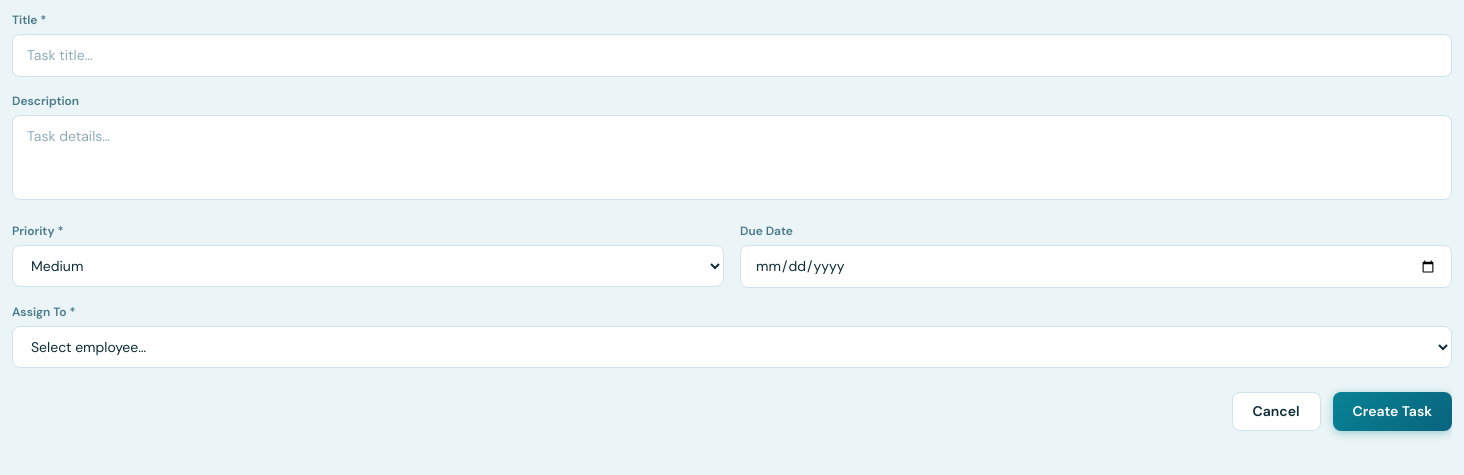
Test: TaskForm — create mode › shows employee required error when no employee selected
Type "My Task" into the field with placeholder "Task title…". click: (732, 56)
box: left=12, top=34, right=1452, bottom=77
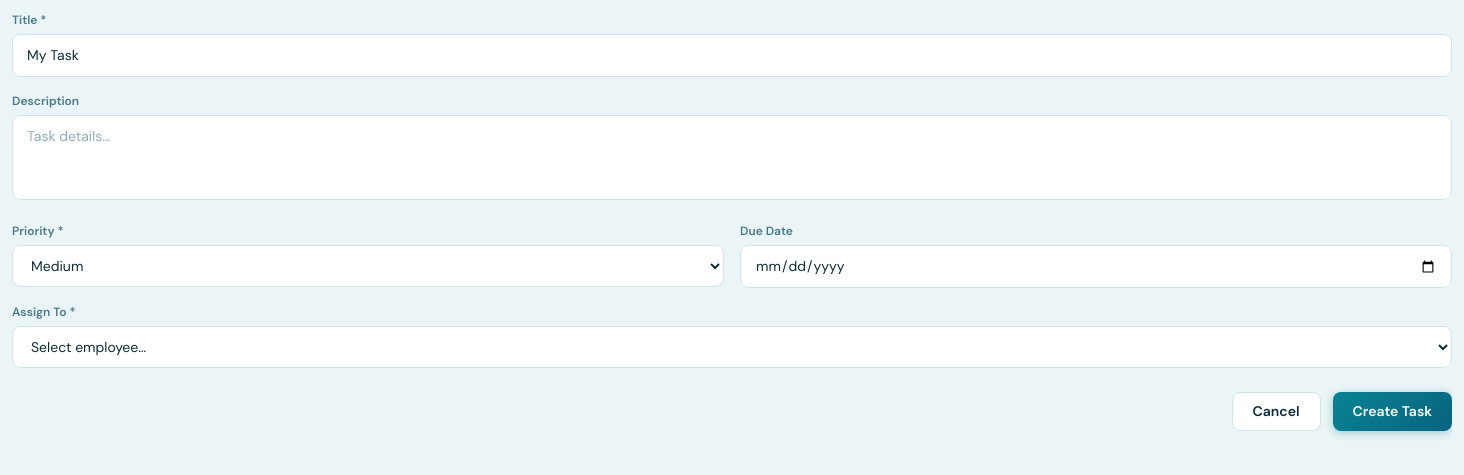
Click the button "Create Task". click: (1392, 412)
box: left=1332, top=392, right=1452, bottom=431
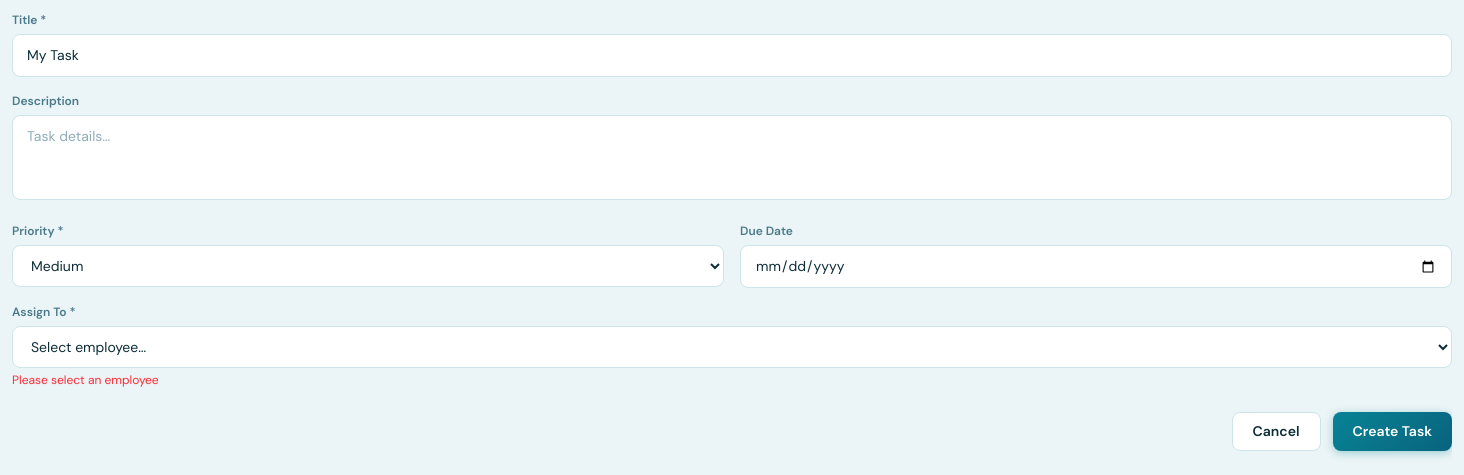
expect the text "Please select an employee" is shown: met, box left=12, top=372, right=159, bottom=388
